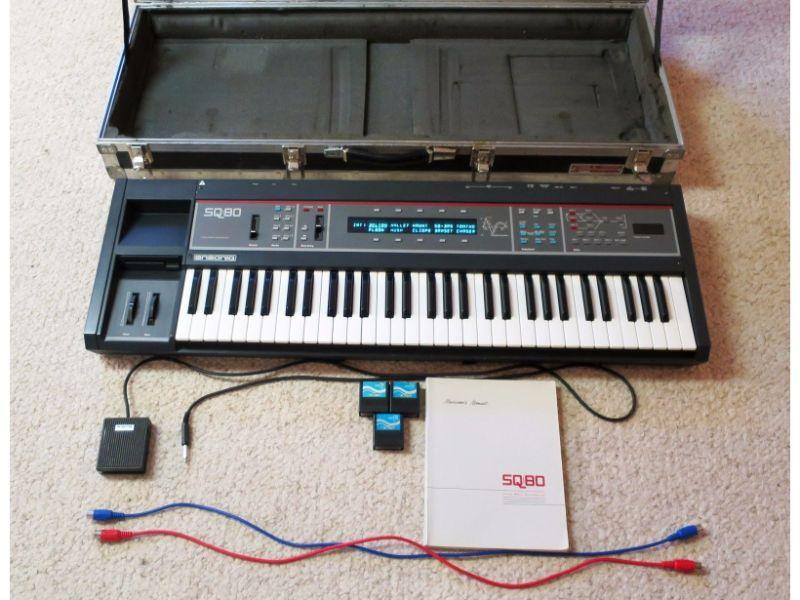synthesizer: (77, 169, 714, 370)
